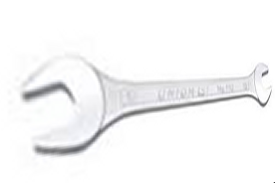Wrench: (15, 43, 275, 154)
